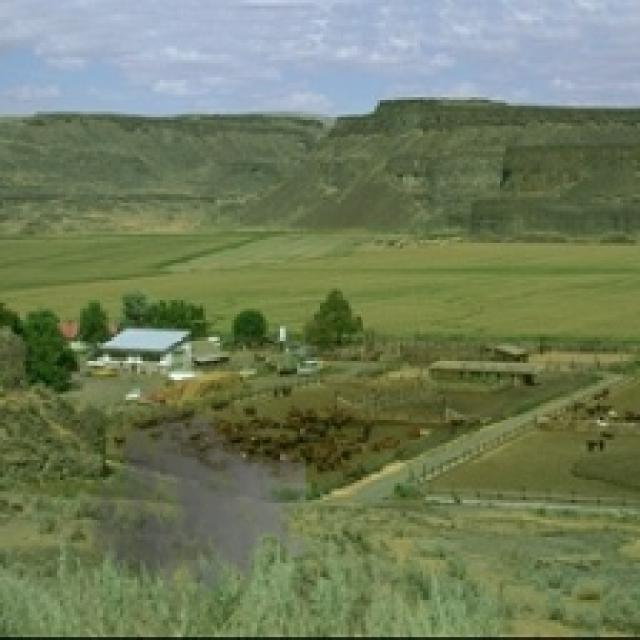smoke: (86, 403, 306, 617)
